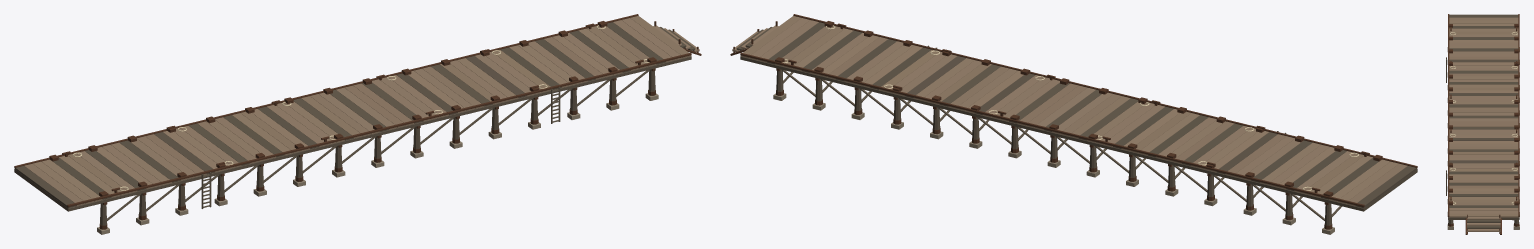
The model's file is dock_harbor_main_a.glb.
3 renders of one model, left to right at view 1: azimuth 30°, elevation 25°; view 2: azimuth 150°, elevation 25°; view 3: azimuth 270°, elevation 25°, orthographic. The views are drawn at different scales.
Parts seen in each view (by area): view 1: dock_harbor_main_a_timber; view 2: dock_harbor_main_a_timber; view 3: dock_harbor_main_a_timber.
Boxes of the visible parts, left/top/right/bottom form: dock_harbor_main_a_timber: left=14, top=14, right=701, bottom=234; dock_harbor_main_a_timber: left=730, top=14, right=1417, bottom=234; dock_harbor_main_a_timber: left=1446, top=14, right=1519, bottom=234.
Size of the model in its own units: 49.81 by 2.98 by 7.42.
